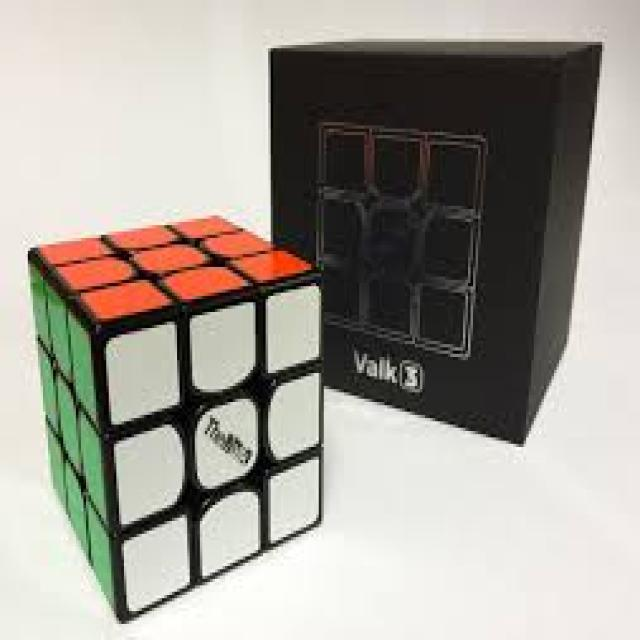Cube-3x3: (6, 227, 352, 537)
